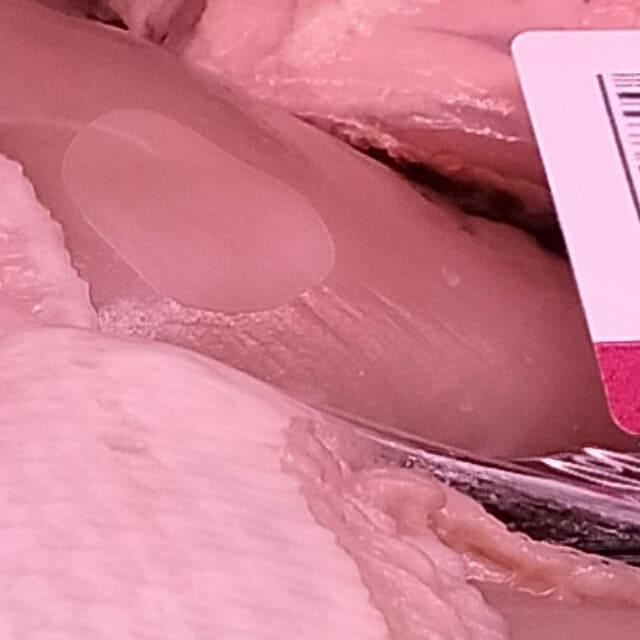chicken: (0, 0, 640, 408), (0, 413, 640, 640)
